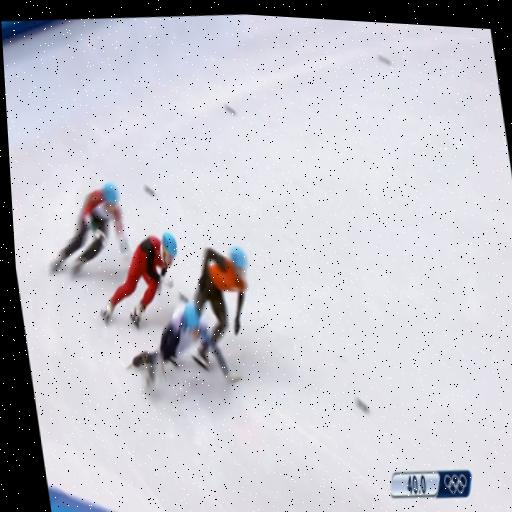Skater: (101, 233, 177, 327), (50, 183, 127, 274), (129, 302, 210, 388), (194, 246, 247, 369)
